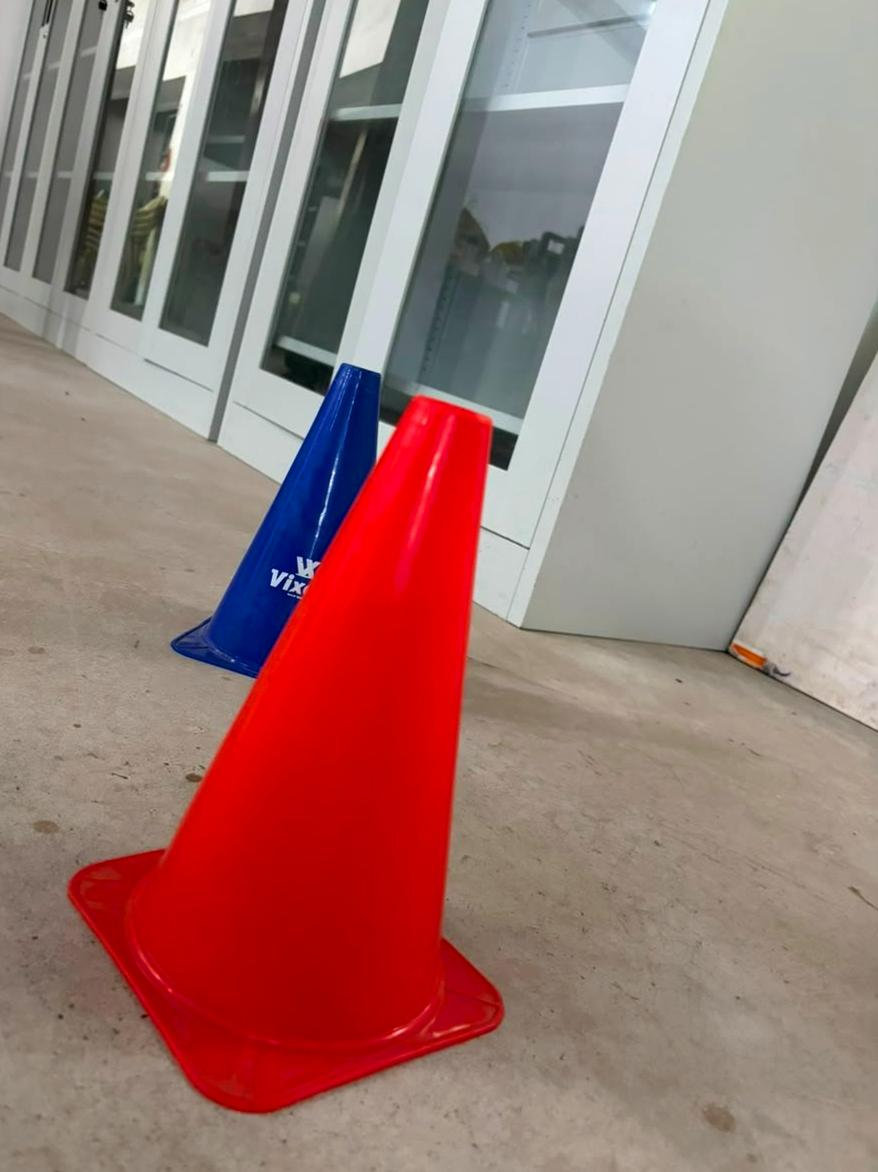0 cone: (69, 365, 502, 1109)
